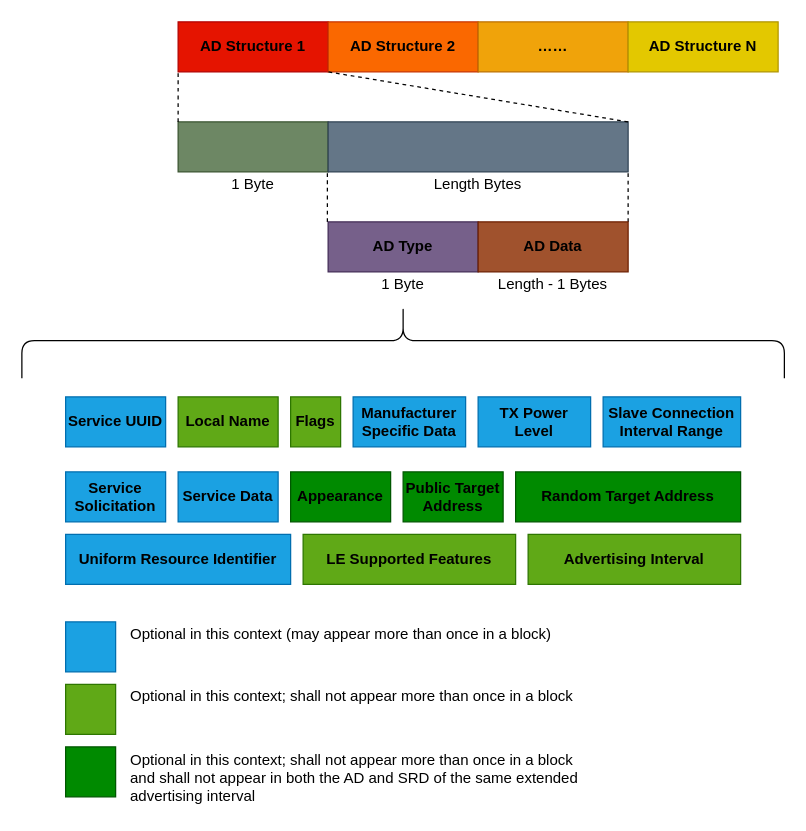
Image size: 806x831. Some labels were removed from this diagram. The shapes that lost their labels are listed below. From the top down, each one's box as (x1, y1, x2, y2) in pixels, then its label:
(177, 121, 328, 172): Length
(327, 121, 628, 172): Data
